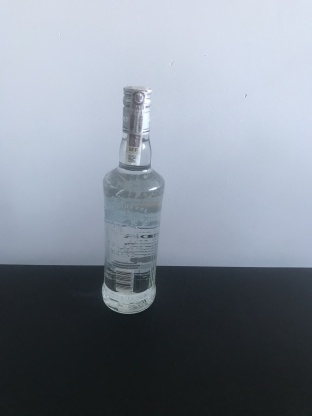nakretka: (120, 81, 153, 137)
